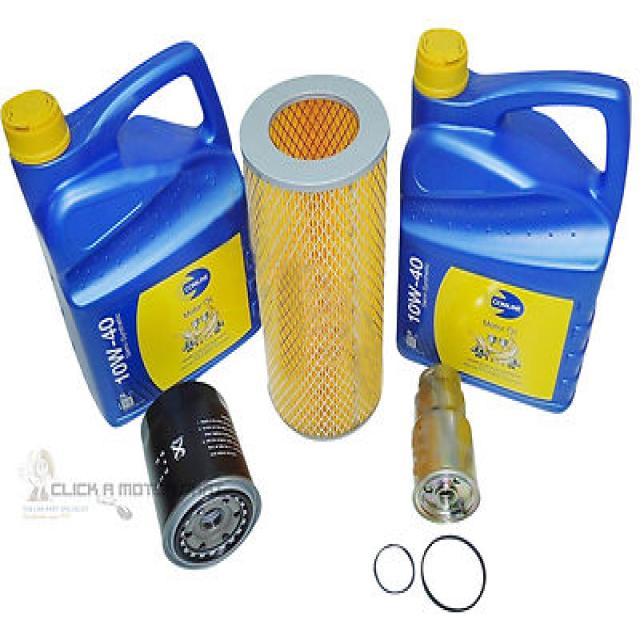motor_oil: (392, 24, 640, 419), (0, 39, 244, 376)
oil_filter: (245, 72, 391, 438), (130, 387, 258, 566), (411, 365, 467, 527)
